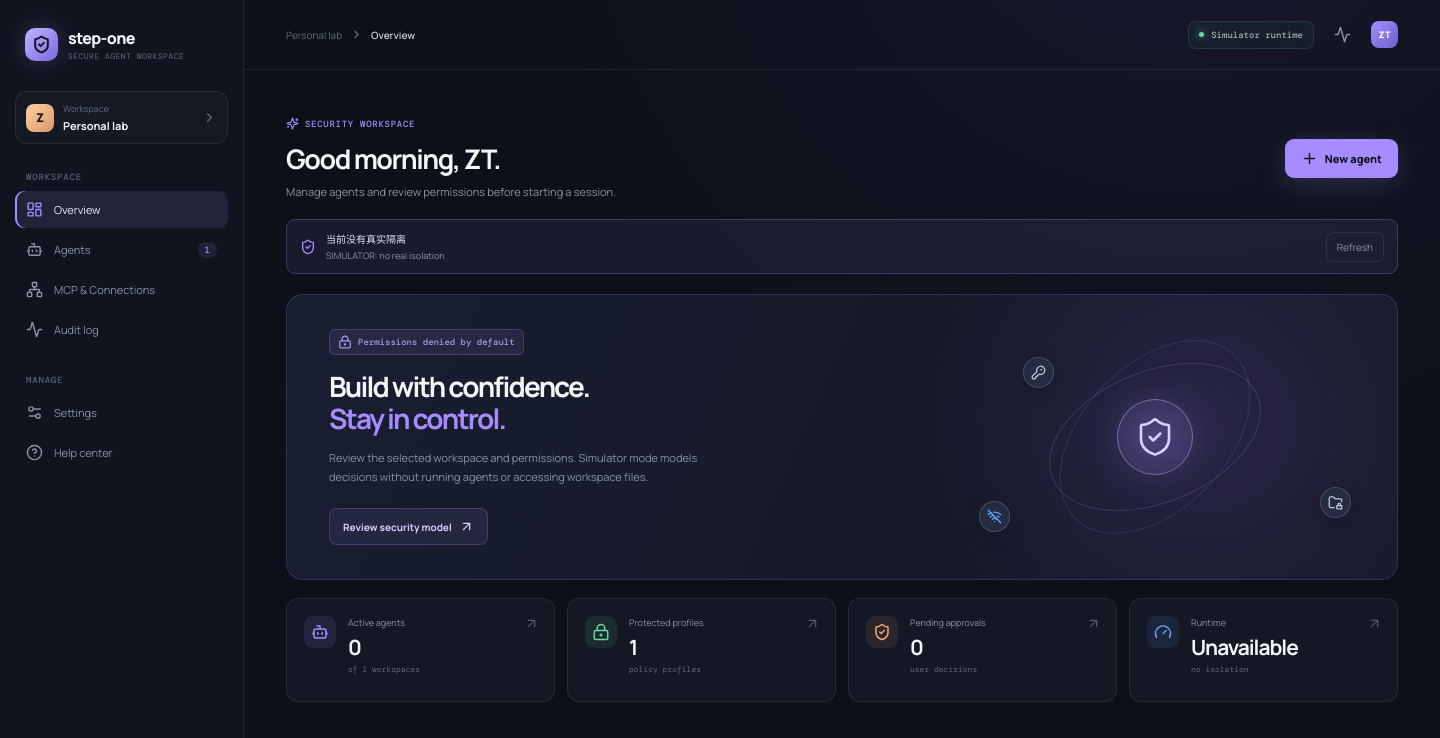
it: console runtime UI › shows read-only diagnostics without changing the active simulator or enabling an unavailable runtime
Click the button "MCP & Connections": x=122, y=290 [15,271,228,308]
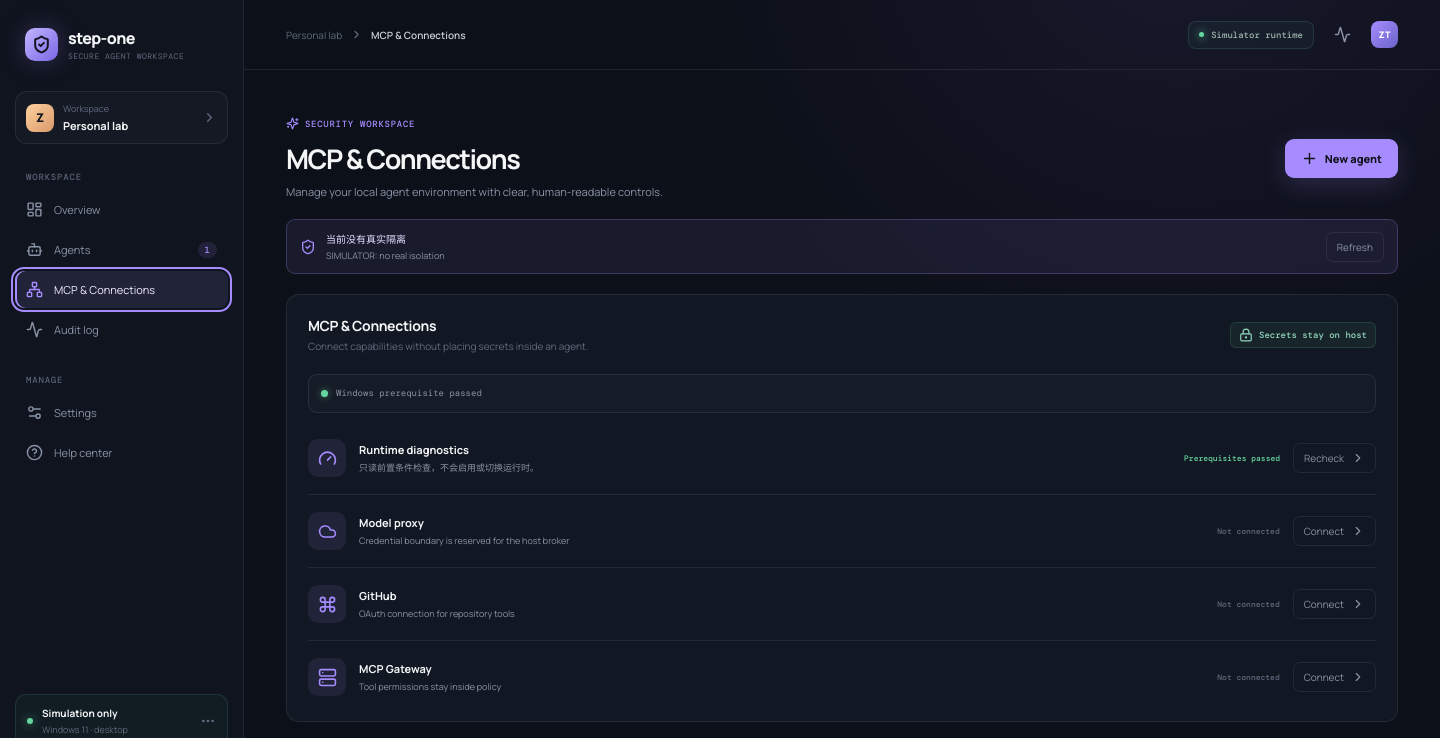
Expected: the text "Simulator runtime" is shown, [1188,20,1314,48]
Expected: the text "Windows prerequisite passed" is shown, [321,387,482,399]
Expected: the text "Prerequisites passed" is shown, [1184,453,1280,463]
